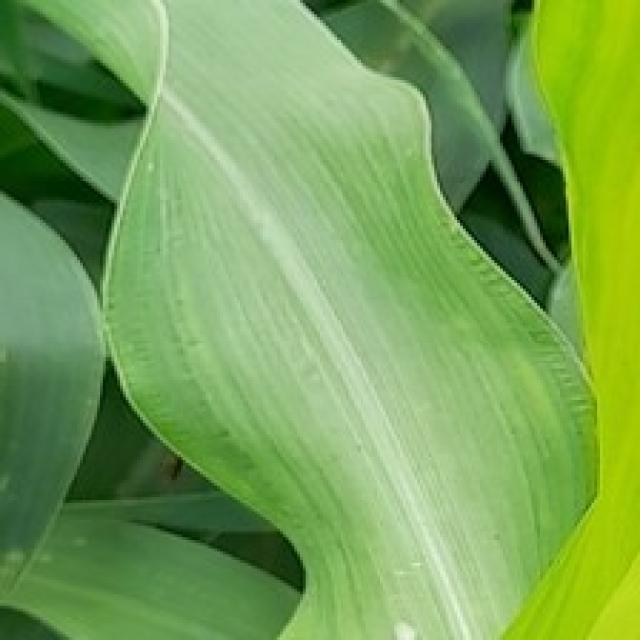Corn: (0, 0, 637, 637), (483, 0, 637, 637), (0, 143, 109, 628)
